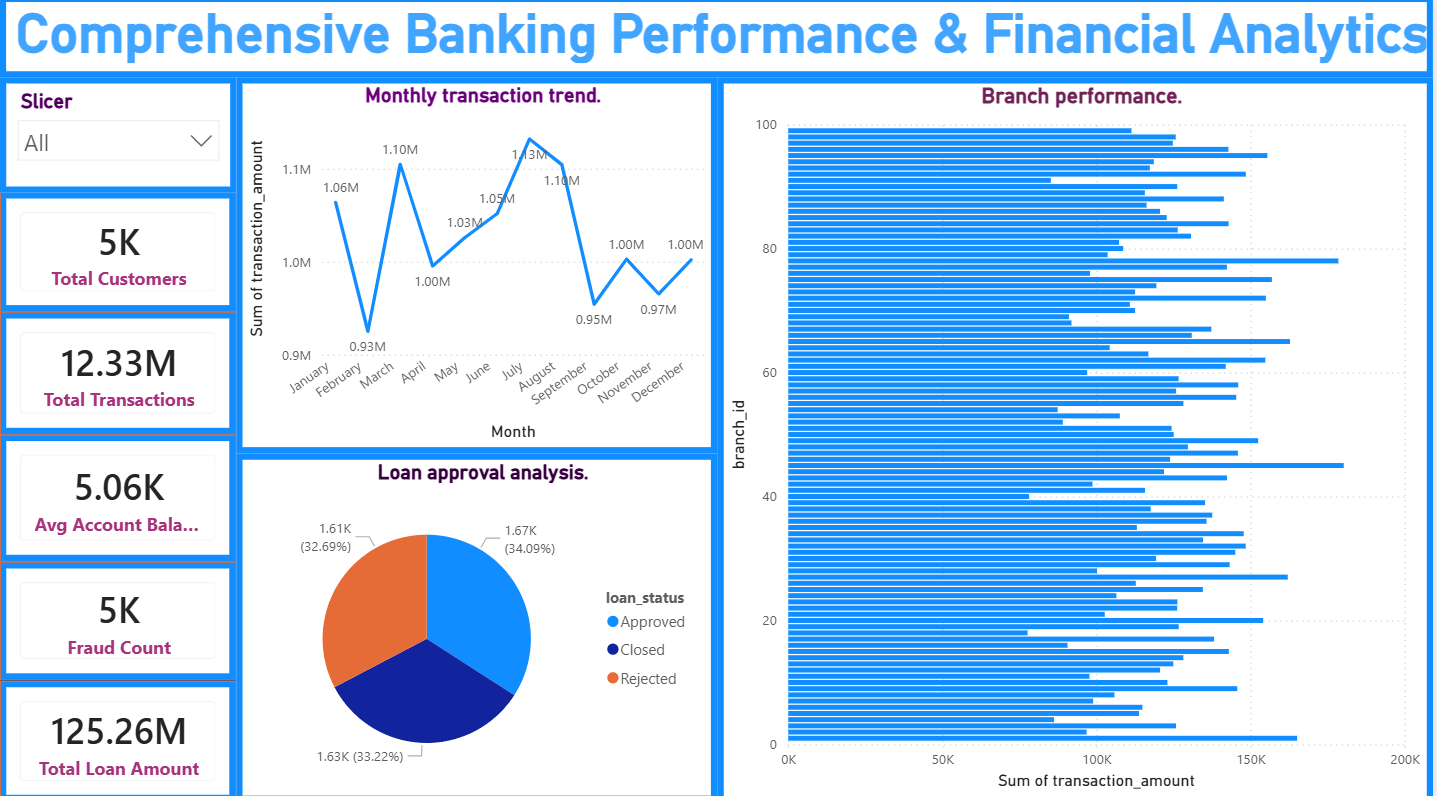

Layout of this report page (visuals, bound fields, positions):
{"tool":"powerbi","page":{"name":"Executive Overview","canvas":[1280,720],"ordinal":0},"visuals":[{"type":"cardVisual","fields":{"Data":["cleaned_banking_data.Total Customers"]},"box":[0,175.6,211.3,107],"z":0},{"type":"cardVisual","fields":{"Data":["cleaned_banking_data.Total Transactions"]},"box":[0,282.7,211.3,109.8],"z":1000},{"type":"cardVisual","fields":{"Data":["cleaned_banking_data.Avg Account Balance"]},"box":[0,392.5,211.3,113.9],"z":2000},{"type":"cardVisual","fields":{"Data":["cleaned_banking_data.Fraud Count"]},"box":[0,506.3,211.3,105.7],"z":3000},{"type":"cardVisual","fields":{"Data":["cleaned_banking_data.Total Loan Amount"]},"box":[0,612,211.3,108.4],"z":4000},{"type":"textbox","title":"Comprehensive Banking Performance & Financial Analytics","box":[0,0,1280.3,72.7],"z":5000},{"type":"lineChart","title":"Monthly transaction trend.","fields":{"Y":["Sum(cleaned_banking_data.transaction_amount)"],"Category":["cleaned_banking_data.transaction_date.Variation.Date Hierarchy.Month"]},"box":[211.3,72.7,429.5,336.2],"z":6000},{"type":"clusteredBarChart","title":"Branch performance.","fields":{"Category":["cleaned_banking_data.branch_id"],"Y":["Sum(cleaned_banking_data.transaction_amount)"]},"box":[640.8,72.7,639.5,647.7],"z":7000},{"type":"pieChart","title":"Loan approval analysis.","fields":{"Category":["cleaned_banking_data.loan_status"],"Y":["Count(cleaned_banking_data.customer_id)"]},"box":[211.3,408.9,429.5,311.5],"z":8000},{"type":"slicer","fields":{"Values":["cleaned_banking_data.city","cleaned_banking_data.gender","cleaned_banking_data.account_type","cleaned_banking_data.loan_status"]},"box":[0,72.7,211.3,102.9],"z":9000}]}

Visuals, with their boxes in screenshot pixels (x1, y1, x2, y2), scaled from the page's 1280x720 canvas onto the 1437x796 screenshot:
cardVisual - cleaned_banking_data.Total Customers: [0, 194, 237, 312]
cardVisual - cleaned_banking_data.Total Transactions: [0, 313, 237, 434]
cardVisual - cleaned_banking_data.Avg Account Balance: [0, 434, 237, 560]
cardVisual - cleaned_banking_data.Fraud Count: [0, 560, 237, 677]
cardVisual - cleaned_banking_data.Total Loan Amount: [0, 677, 237, 795]
"Comprehensive Banking Performance & Financial Analytics" textbox: [0, 0, 1436, 80]
"Monthly transaction trend." lineChart: [237, 80, 719, 452]
"Branch performance." clusteredBarChart: [719, 80, 1436, 795]
"Loan approval analysis." pieChart: [237, 452, 719, 795]
slicer - cleaned_banking_data.city x cleaned_banking_data.gender: [0, 80, 237, 194]
